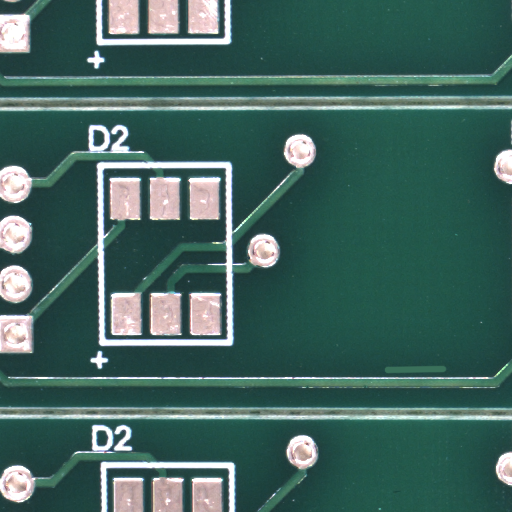Spurious_copper: (415, 369, 476, 383)
